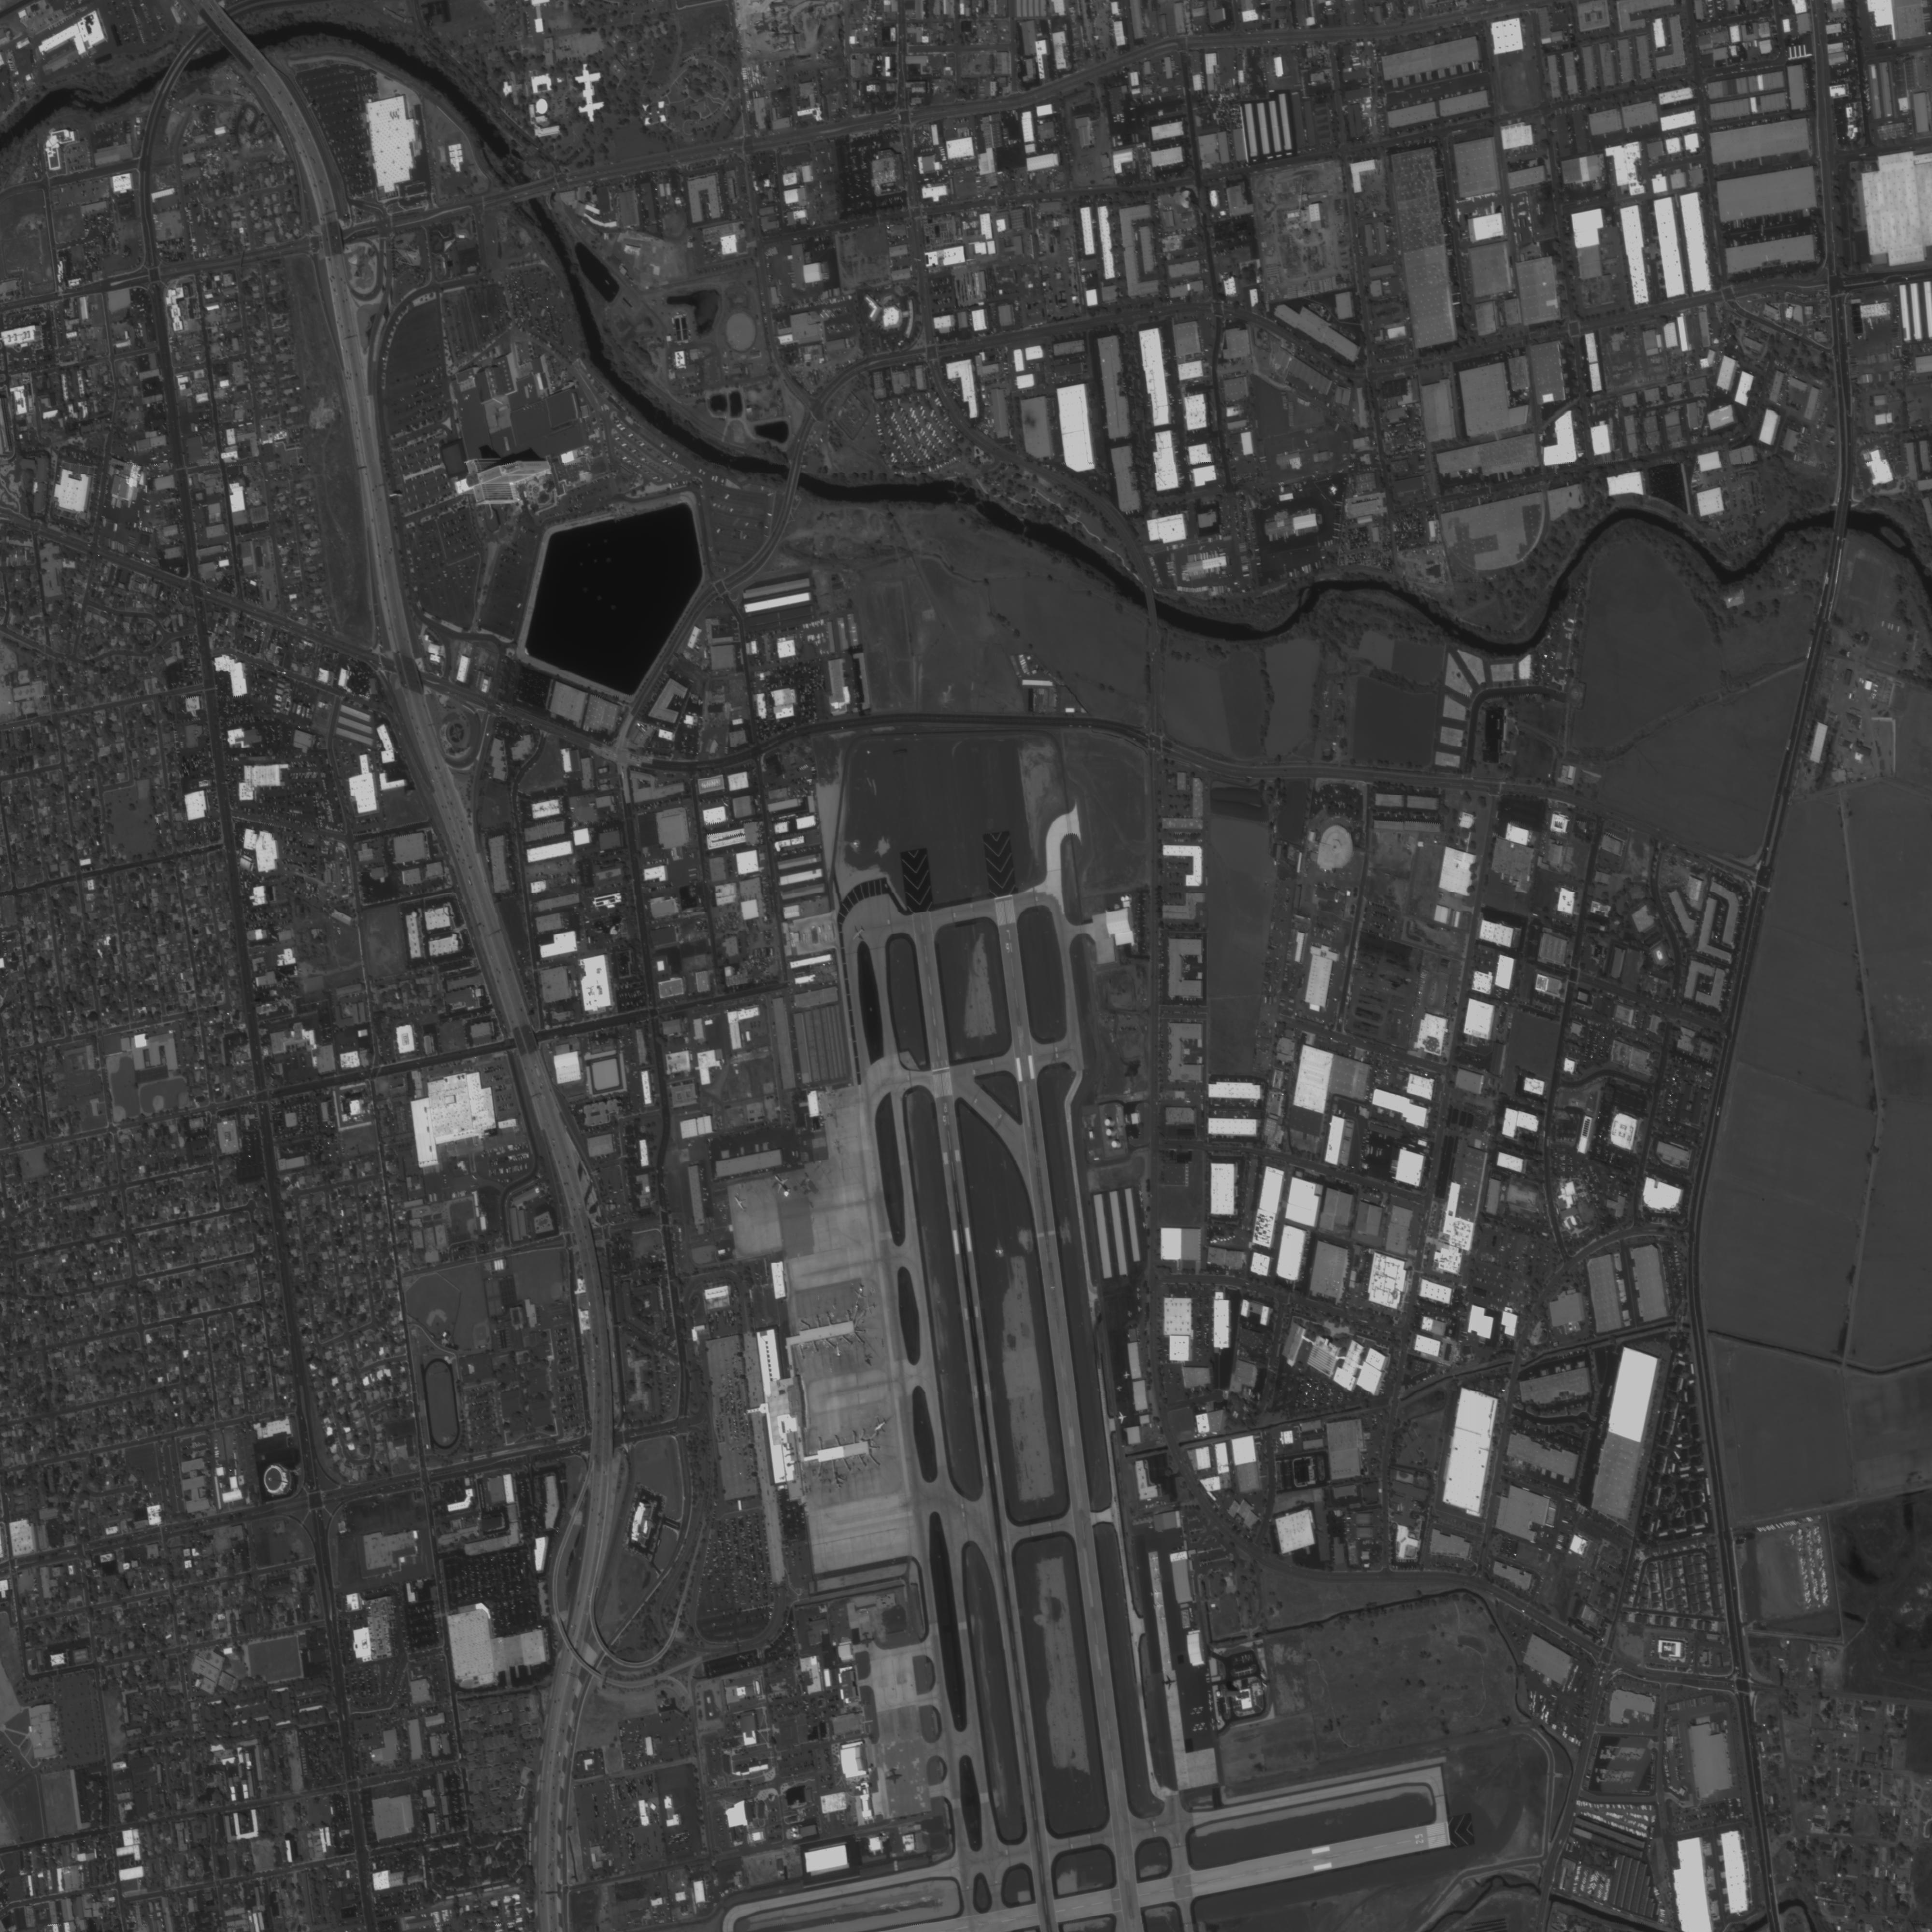plane: (766, 1168, 798, 1200), (846, 918, 872, 947), (729, 1191, 750, 1214), (869, 1414, 890, 1435), (883, 1766, 904, 1787), (856, 1629, 876, 1651), (828, 1468, 847, 1490), (1161, 1672, 1180, 1693), (851, 1284, 869, 1302), (1115, 1408, 1129, 1426), (862, 1300, 878, 1315), (830, 1345, 844, 1357), (1148, 1587, 1162, 1598), (1154, 1599, 1162, 1610), (1148, 1553, 1157, 1562), (1123, 1307, 1132, 1316), (1122, 1368, 1129, 1378)
